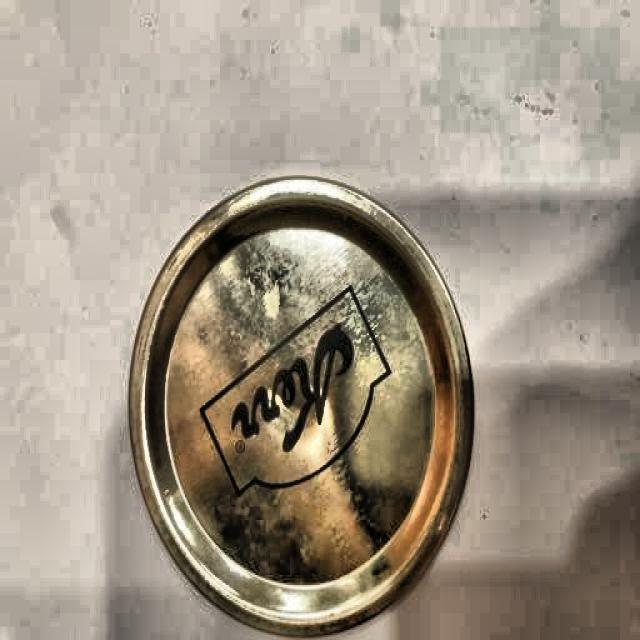metal: (128, 177, 474, 640)
